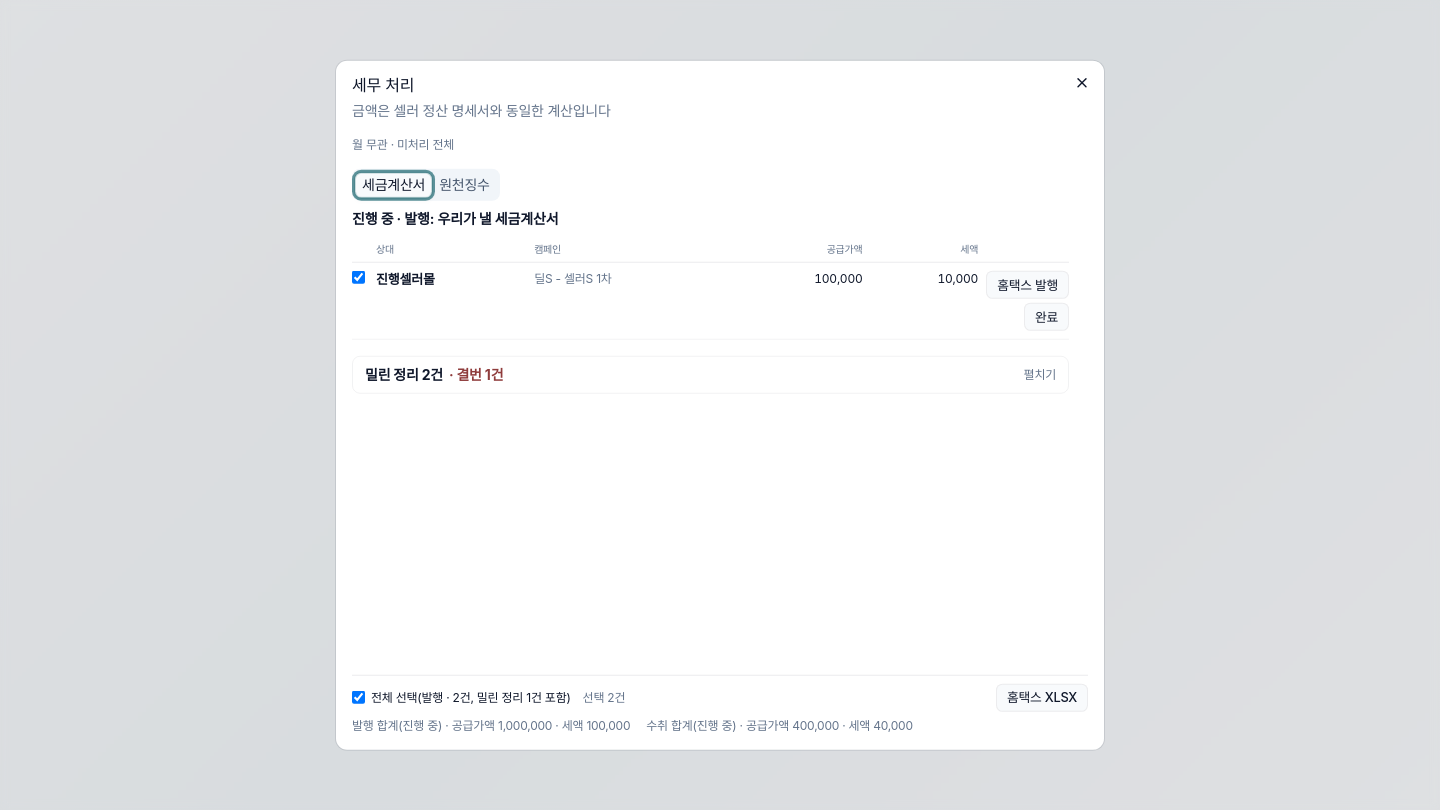
세무 처리 다이얼로그 — 진행 중/밀린 정리 두 구역 › 밀린 정리 머리글을 누르면 펼쳐져 안의 행을 보여준다
Click the button "밀린 정리 2건· 결번 1건 펼치기": (393, 375) [353,357,1068,393]
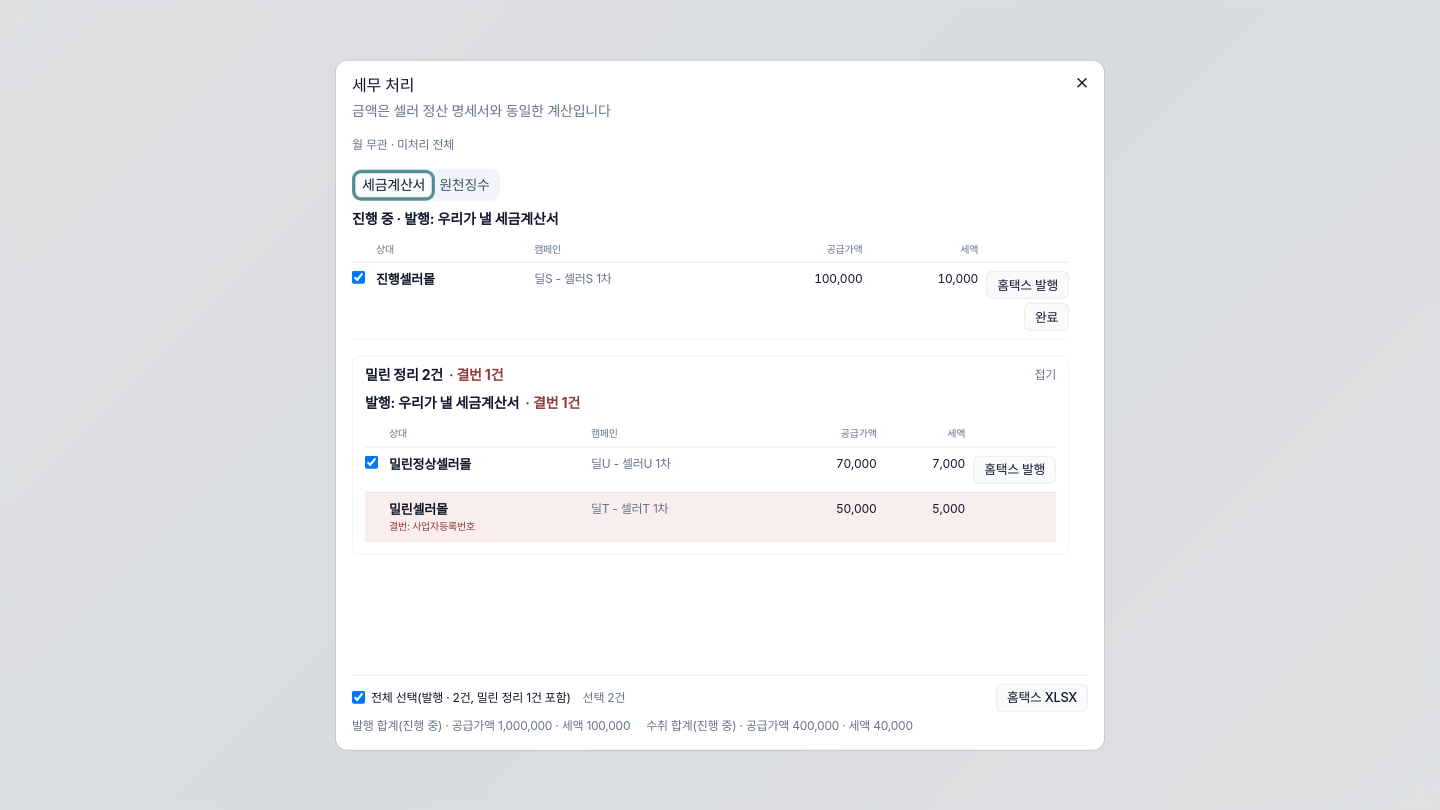
Expected: the button "밀린 정리 2건· 결번 1건 접기" is expanded, [353,357,1068,393]
Expected: the text "밀린셀러몰" is shown, [389,500,448,516]
